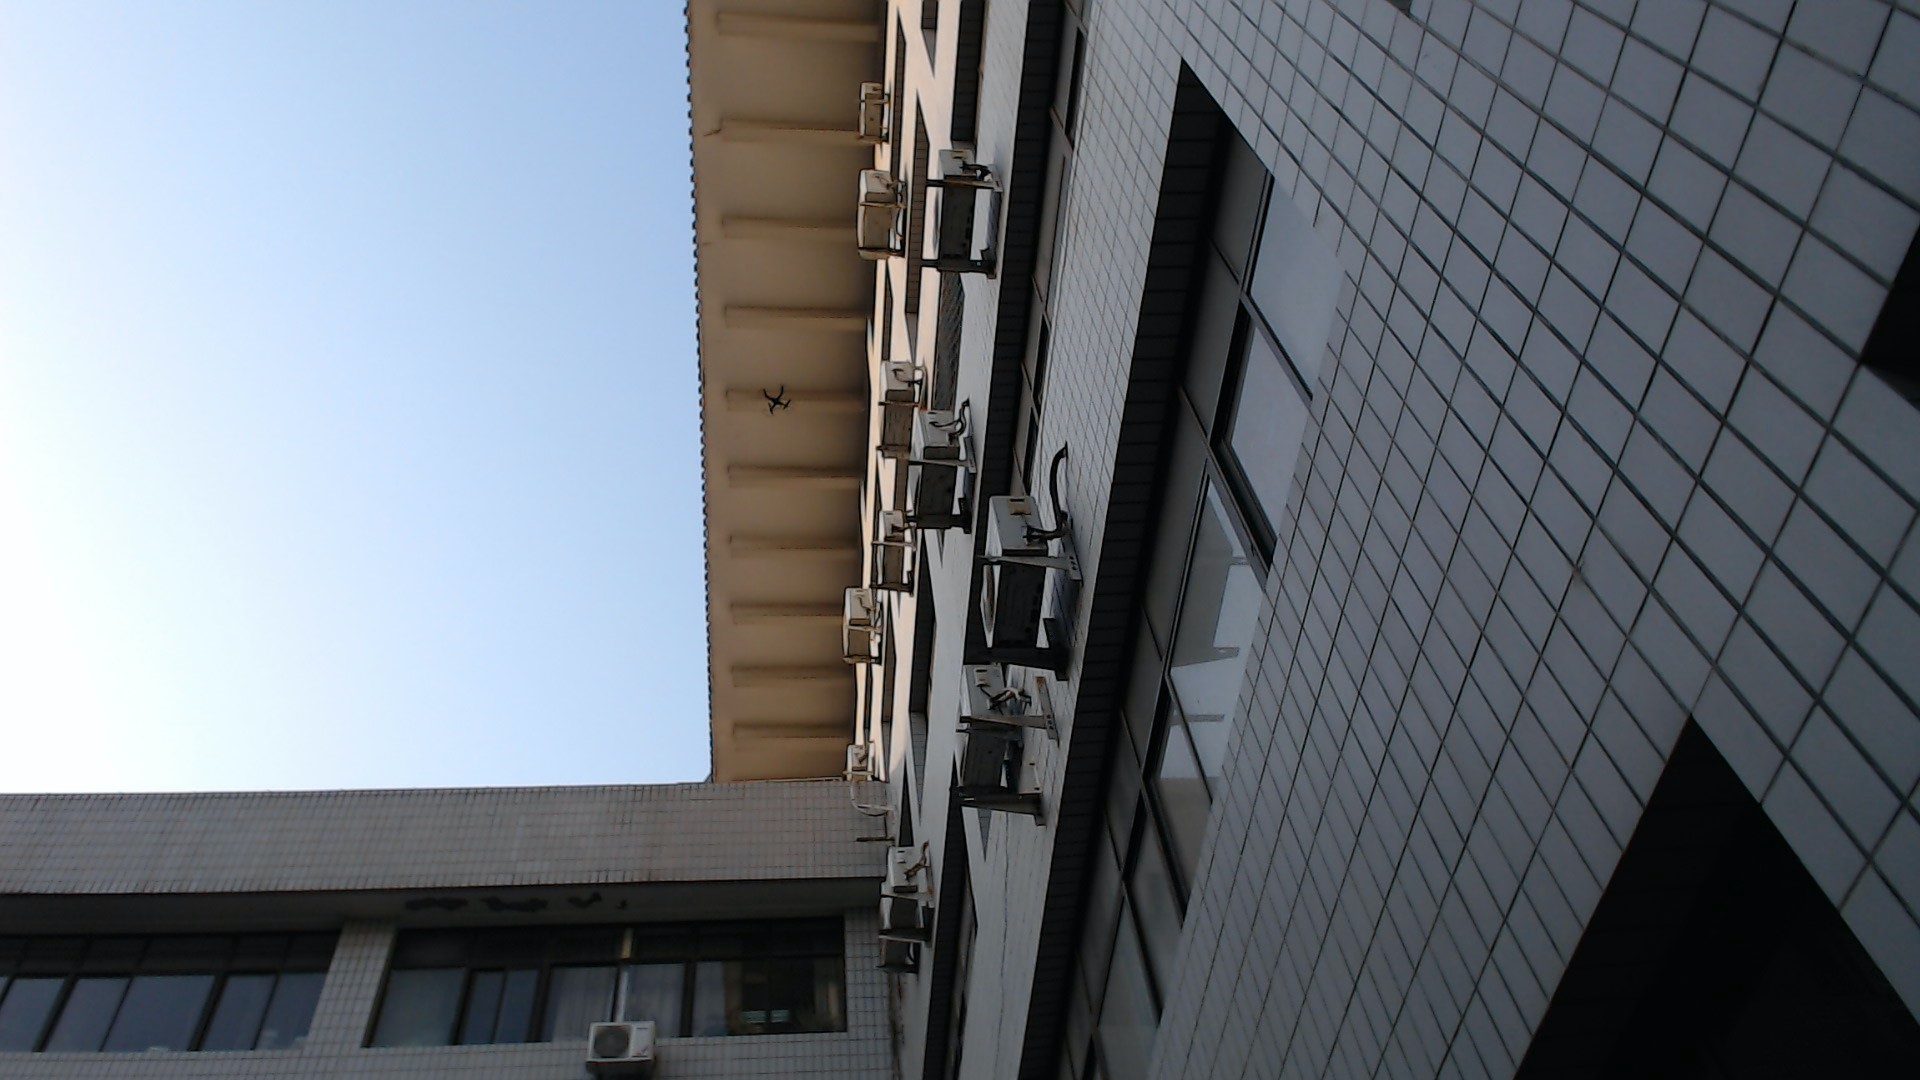drone: (752, 372, 814, 433)
